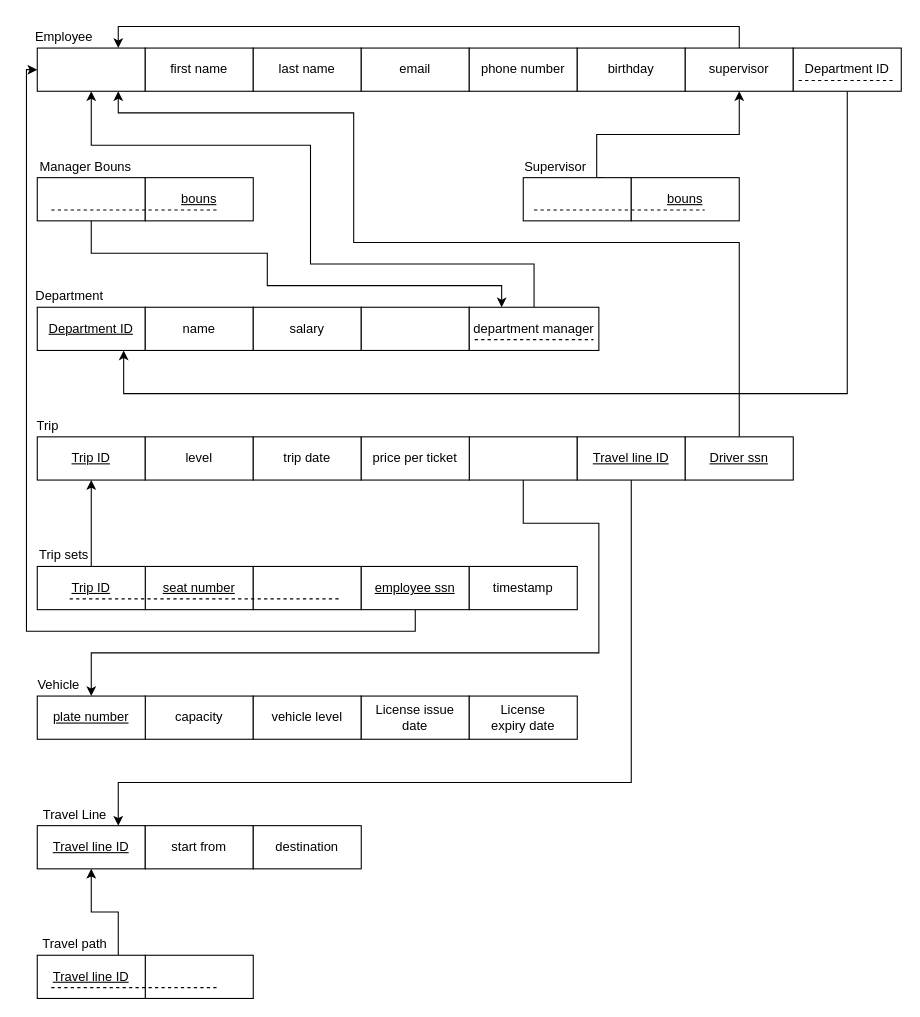
This 920x1017 diagram has some shape labels left out. Here are the shapes that lost their labels. From the top down, the centre of each, then its label:
point (90, 69): SSN
point (90, 199): Manager SSN
point (576, 199): Supervisor SSN
point (414, 328): working hours per day
point (522, 458): car ID
point (306, 587): seat status
point (198, 976): path
